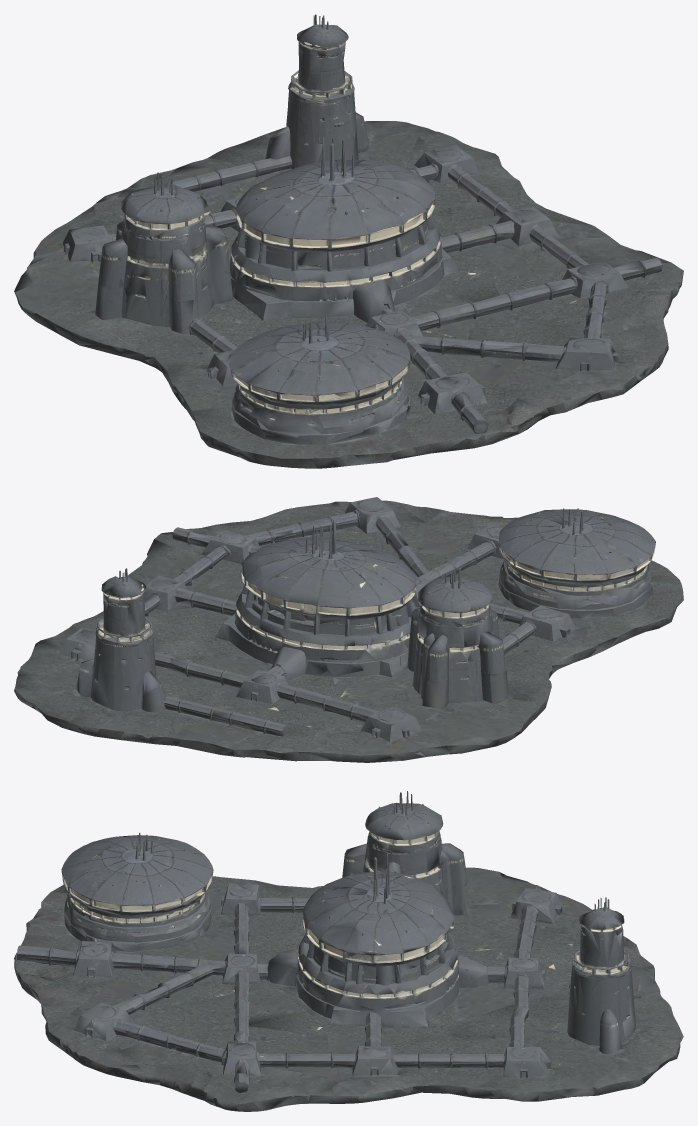
File: massabase.lod1.glb
3 renders of one model, top to bottom at view 1: azimuth 30°, elevation 25°; view 2: azimuth 150°, elevation 25°; view 3: azimuth 270°, elevation 25°, orthographic. The views are drawn at different scales.
Parts seen in each view (by area): view 1: massabase-centred; view 2: massabase-centred; view 3: massabase-centred.
Boxes of the visible parts, bbox=[...] form: massabase-centred: bbox=[14, 14, 683, 468]; massabase-centred: bbox=[14, 497, 683, 762]; massabase-centred: bbox=[14, 791, 683, 1111].
Bounding box in the file's own units: 50.22 × 14.15 × 59.95.
1 material, 1 textured.
